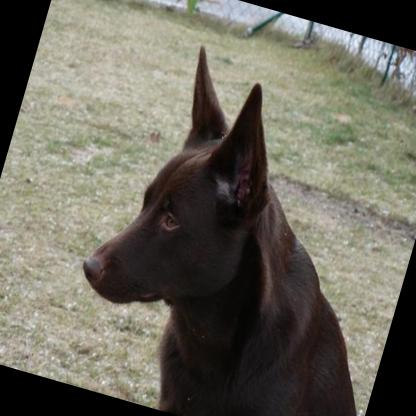kelpie: (50, 29, 416, 416)
